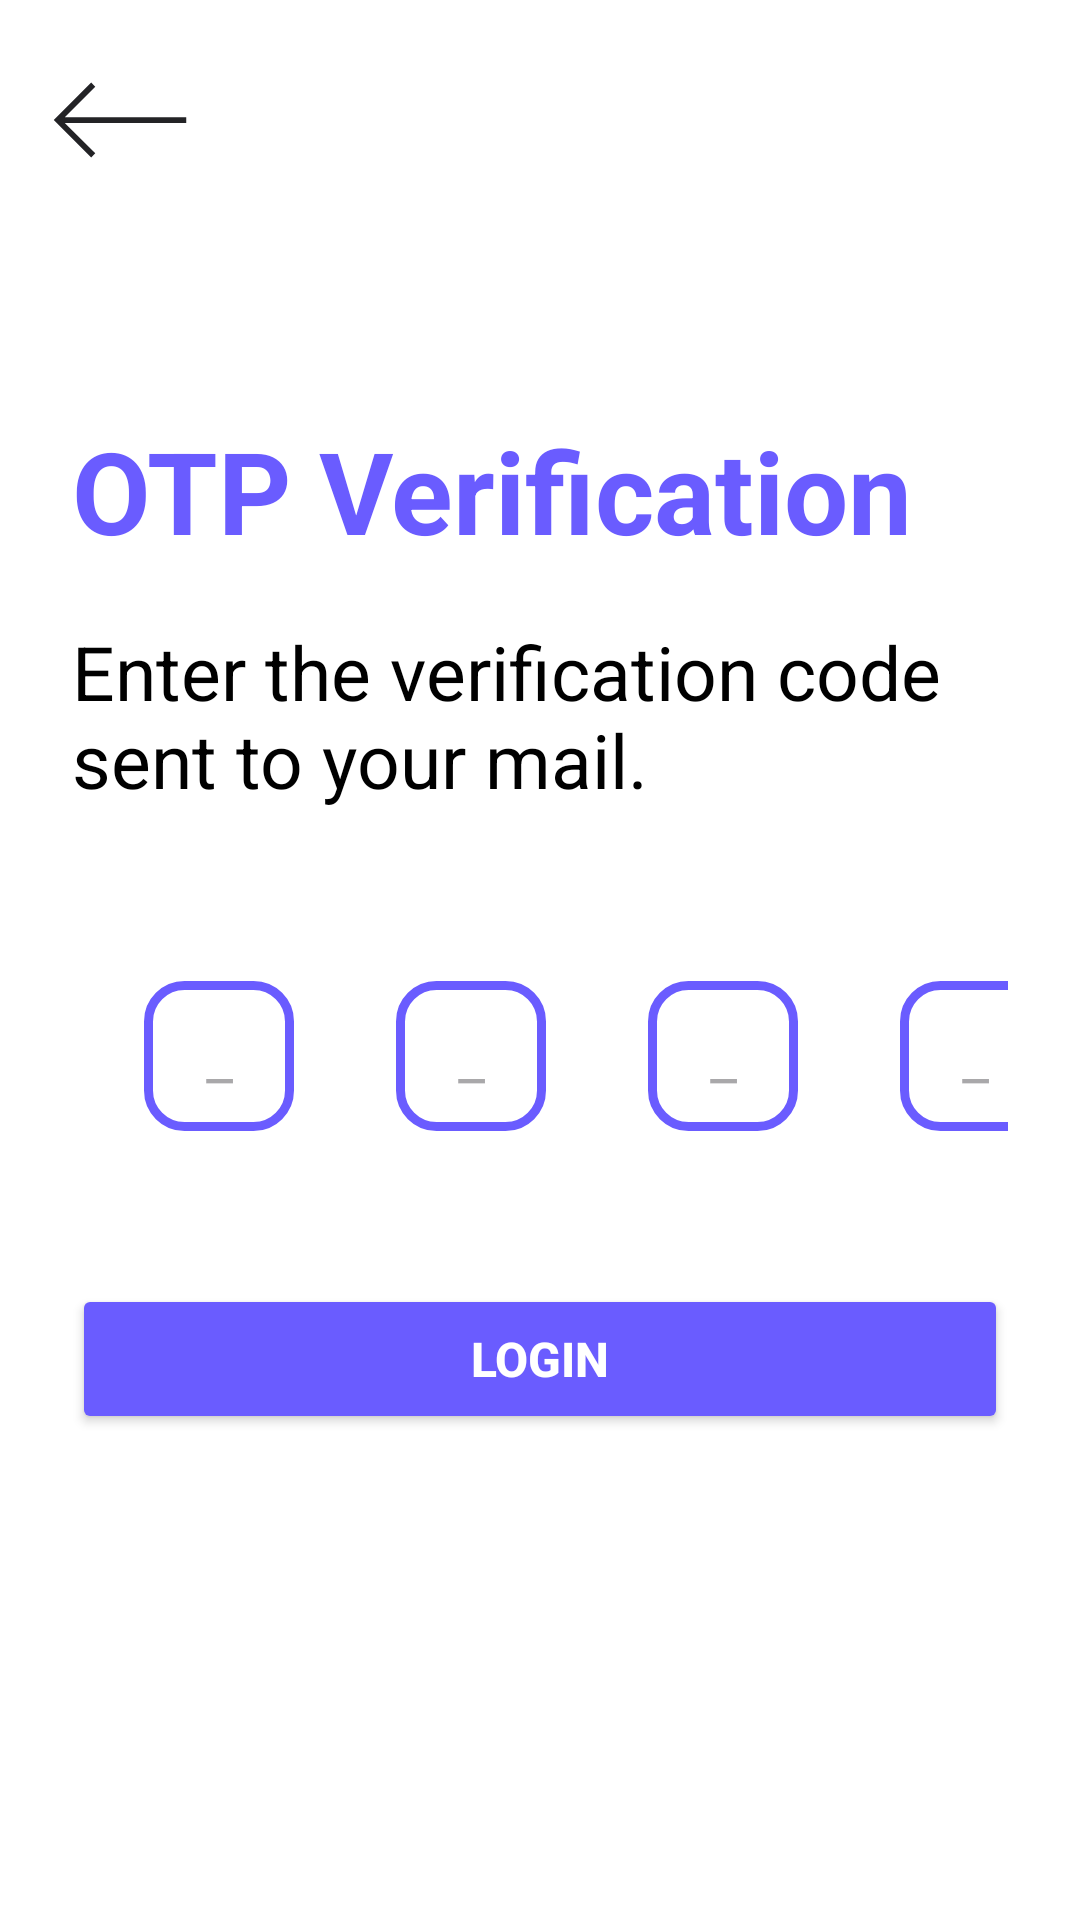

Icon click points for this 1080px×1920px phone screenshot, format (x=x, y=y):
Back: (x=120, y=120)
